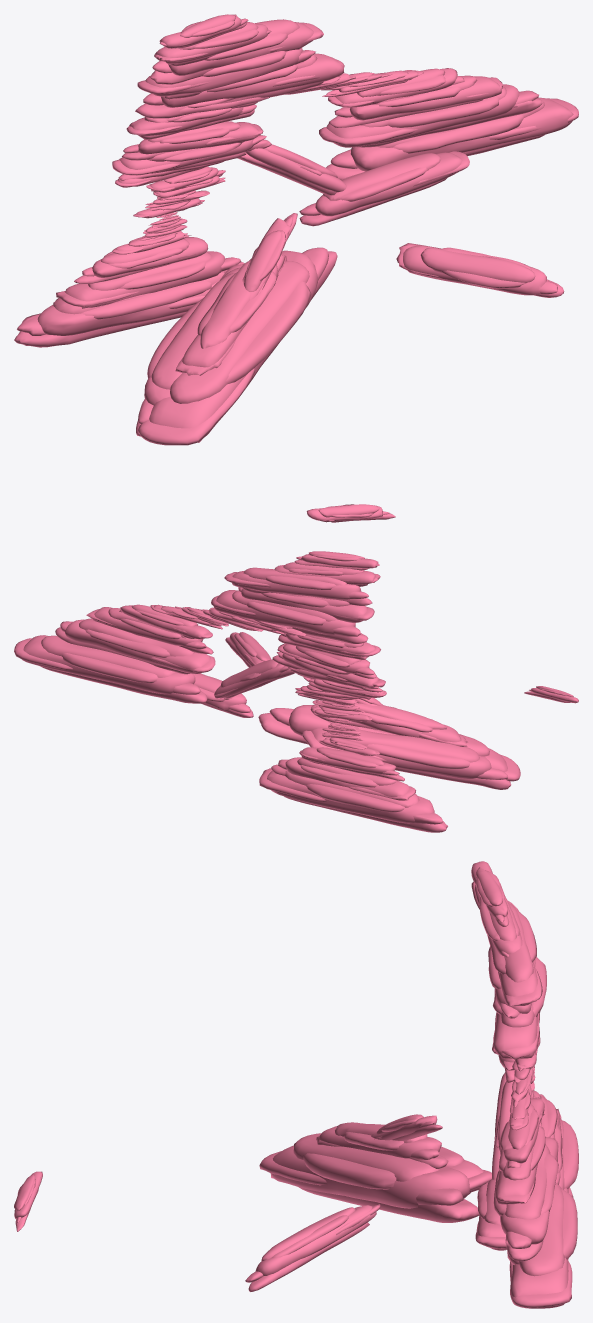
File: Rockform_low.fbx
The picture shows the model from 3 angles, top to bottom: view 1: azimuth 30°, elevation 25°; view 2: azimuth 150°, elevation 25°; view 3: azimuth 270°, elevation 25°; orthographic projection. The views are drawn at different scales.
Visible parts, largest first — view 1: Rockform_low; view 2: Rockform_low; view 3: Rockform_low.
Boxes of the visible parts, x1,y1,x2,y2 form: Rockform_low: (14,14,578,522); Rockform_low: (14,551,578,832); Rockform_low: (14,861,578,1308).
Bounding box in the file's own units: 3.26 × 1.86 × 2.62.
